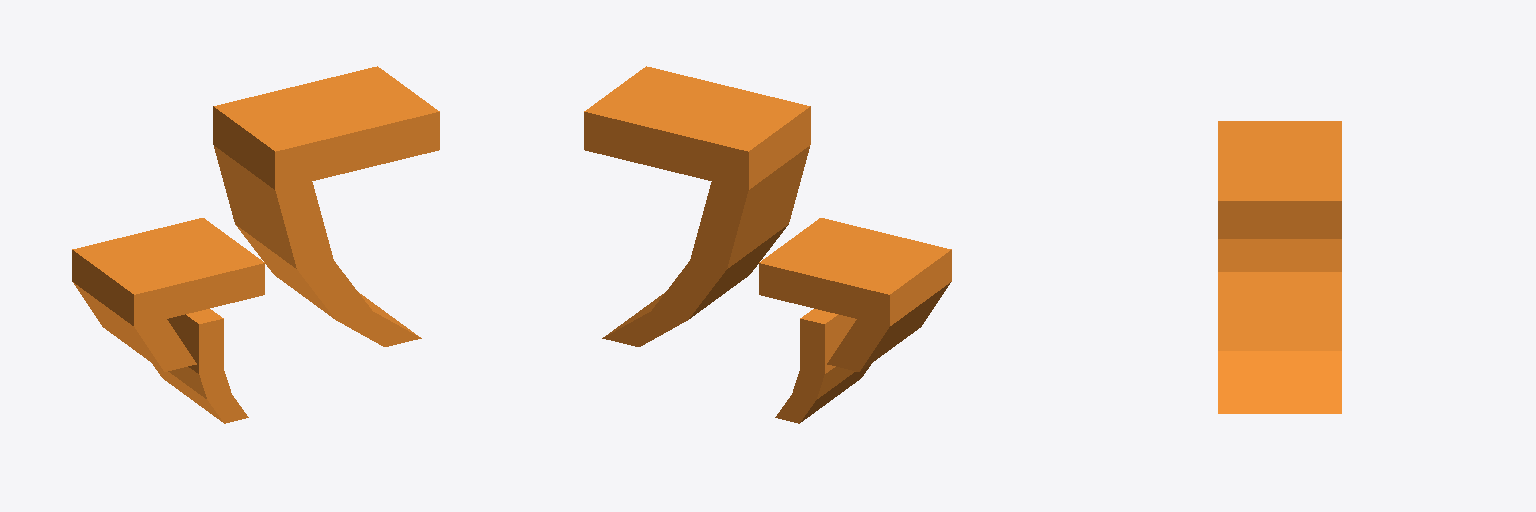
3 renders of one model, left to right at view 1: azimuth 30°, elevation 25°; view 2: azimuth 150°, elevation 25°; view 3: azimuth 270°, elevation 25°, orthographic.
Parts seen in each view (by area): view 1: Cube; view 2: Cube; view 3: Cube.
Boxes of the visible parts, x1=… form: Cube: x1=72, y1=66, x2=439, y2=423; Cube: x1=584, y1=66, x2=951, y2=423; Cube: x1=1218, y1=121, x2=1341, y2=413.
Size of the model in its own units: 1.34 by 1.09 by 0.4724.
1 materials, 1 textured.